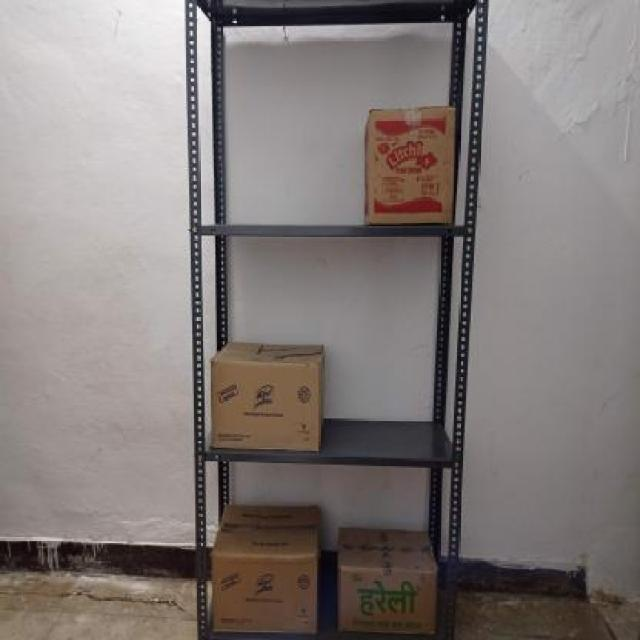box: (368, 108, 457, 224), (212, 363, 316, 446), (209, 556, 317, 633), (338, 571, 436, 633)
